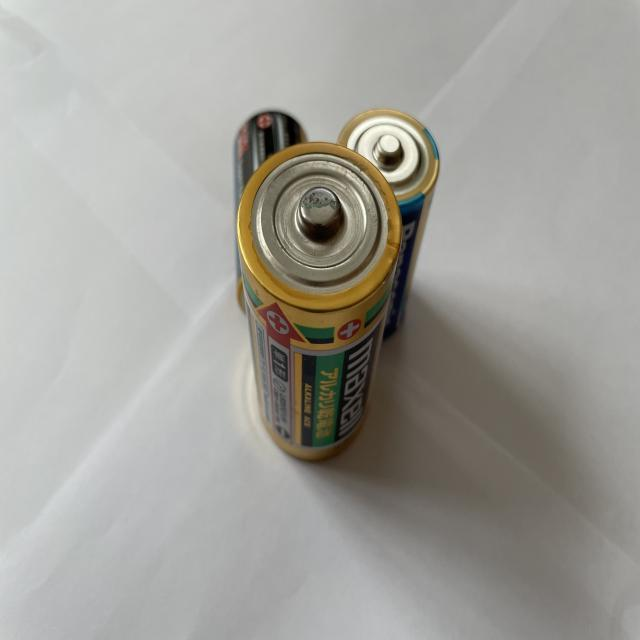hazardous waste: (234, 140, 401, 463), (336, 108, 438, 348), (232, 107, 310, 316)
